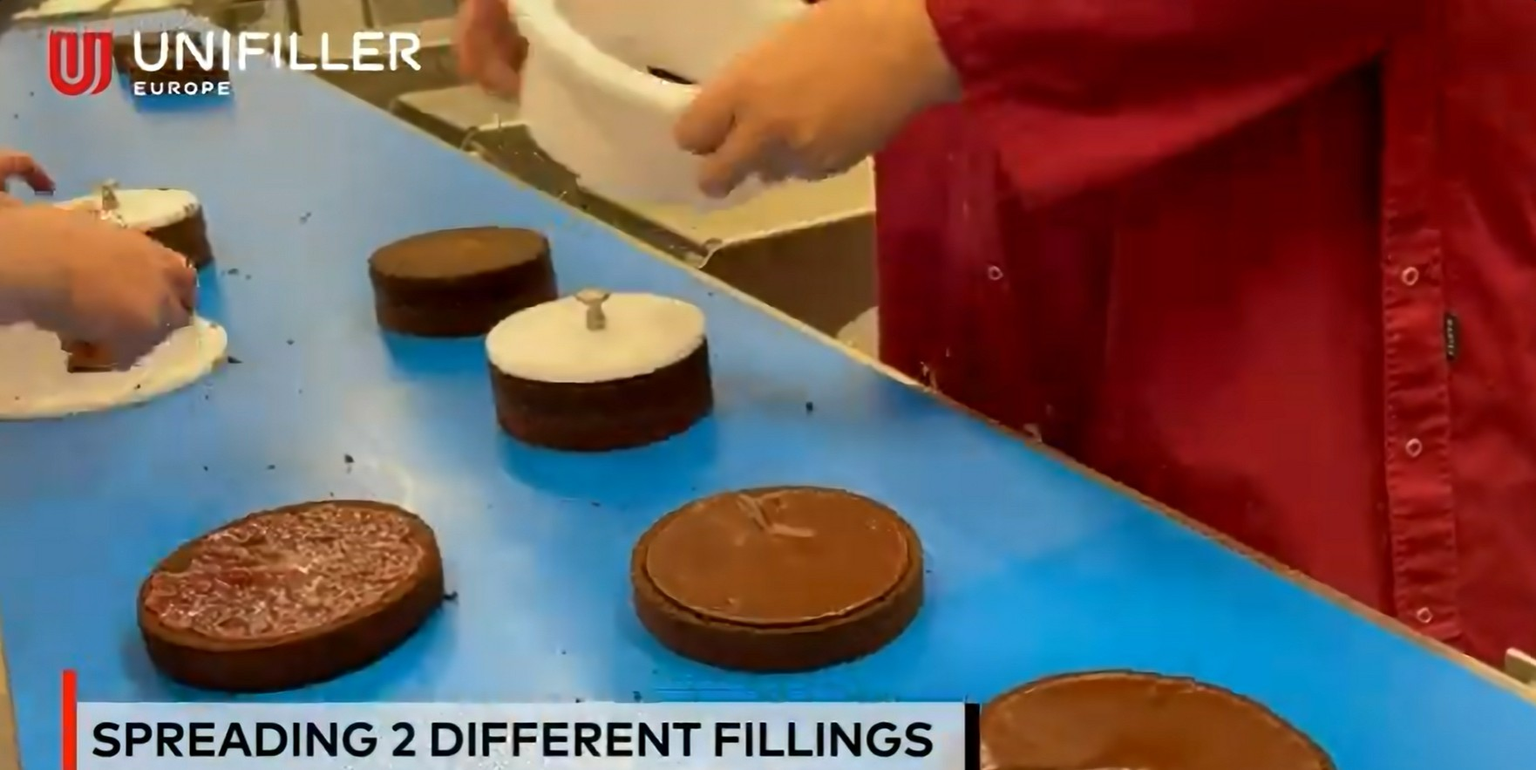Chocolate Cake: (366, 222, 564, 333)
Chocolate Coated: (138, 501, 437, 690), (629, 479, 914, 668), (968, 668, 1337, 770)
